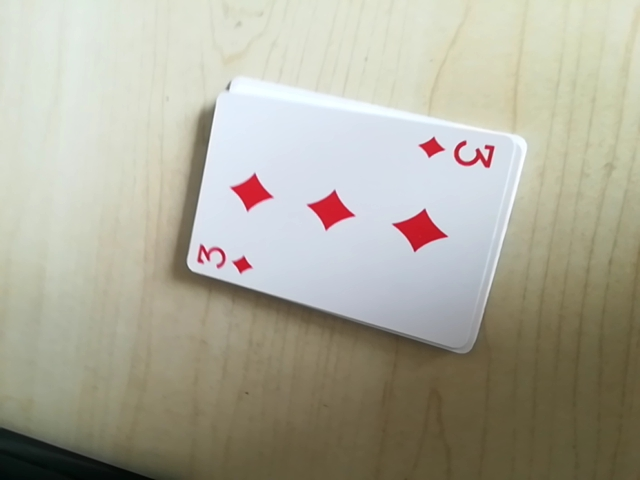fk 3: (414, 129, 504, 175), (189, 239, 257, 279)
